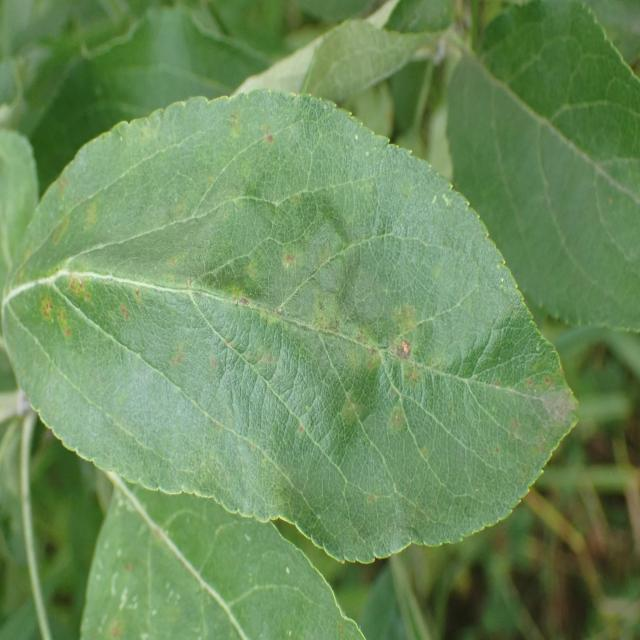scab: (11, 121, 575, 495)
